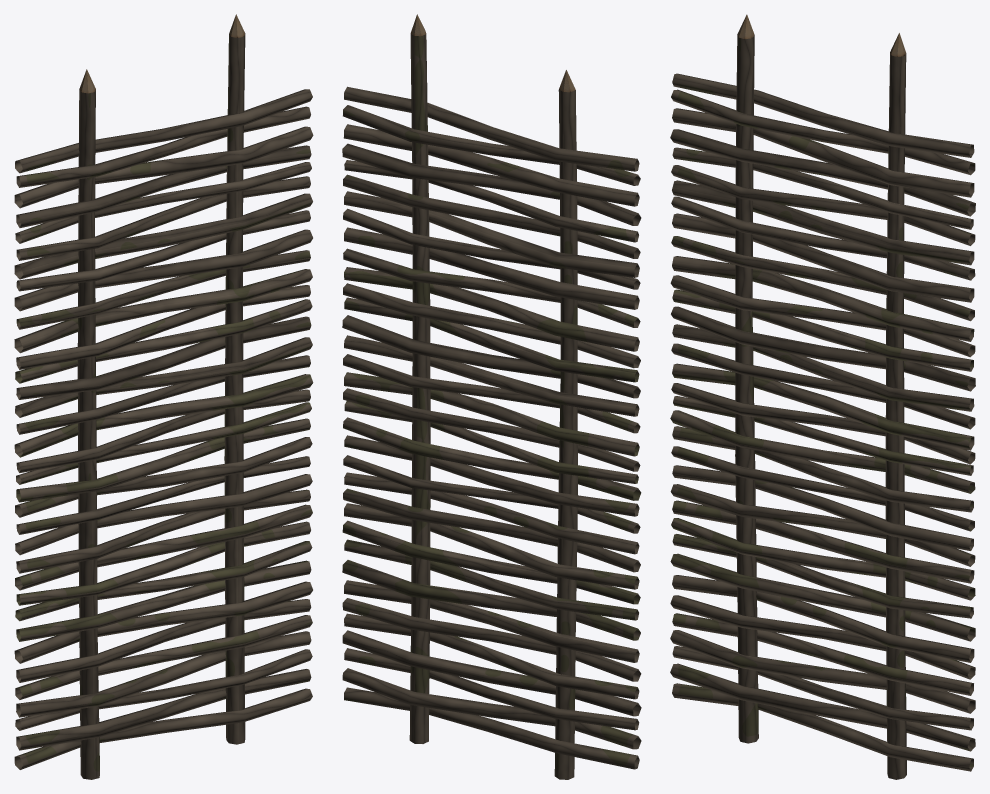
The model's file is S7U_Rev_Wattle_1m.fbx.
The picture shows the model from 3 angles, left to right: view 1: azimuth 30°, elevation 25°; view 2: azimuth 150°, elevation 25°; view 3: azimuth 330°, elevation 25°; orthographic projection. The views are drawn at different scales.
Parts seen in each view (by area): view 1: S7U_Rev_Wattle_1m; view 2: S7U_Rev_Wattle_1m; view 3: S7U_Rev_Wattle_1m.
Part boxes in pixels (x1,y1,x2,y2): S7U_Rev_Wattle_1m: (14,14,313,779); S7U_Rev_Wattle_1m: (342,14,641,779); S7U_Rev_Wattle_1m: (670,14,975,779).
Bounding box in the file's own units: 1.01 × 2.39 × 0.113.
